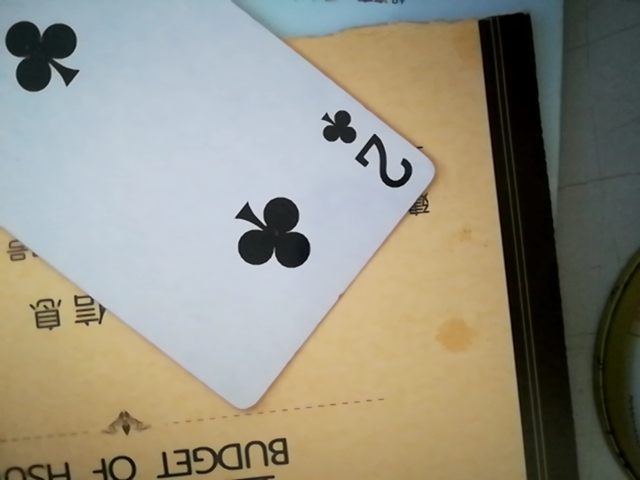mh 2: (4, 3, 457, 414)
